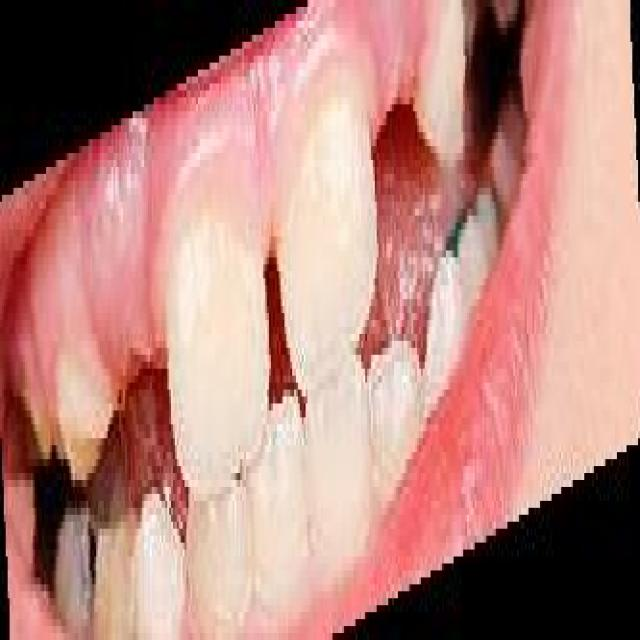caries: (34, 476, 94, 626)
